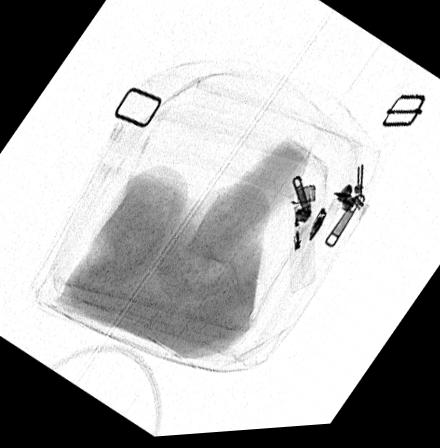Lighter: (287, 188, 316, 299)
